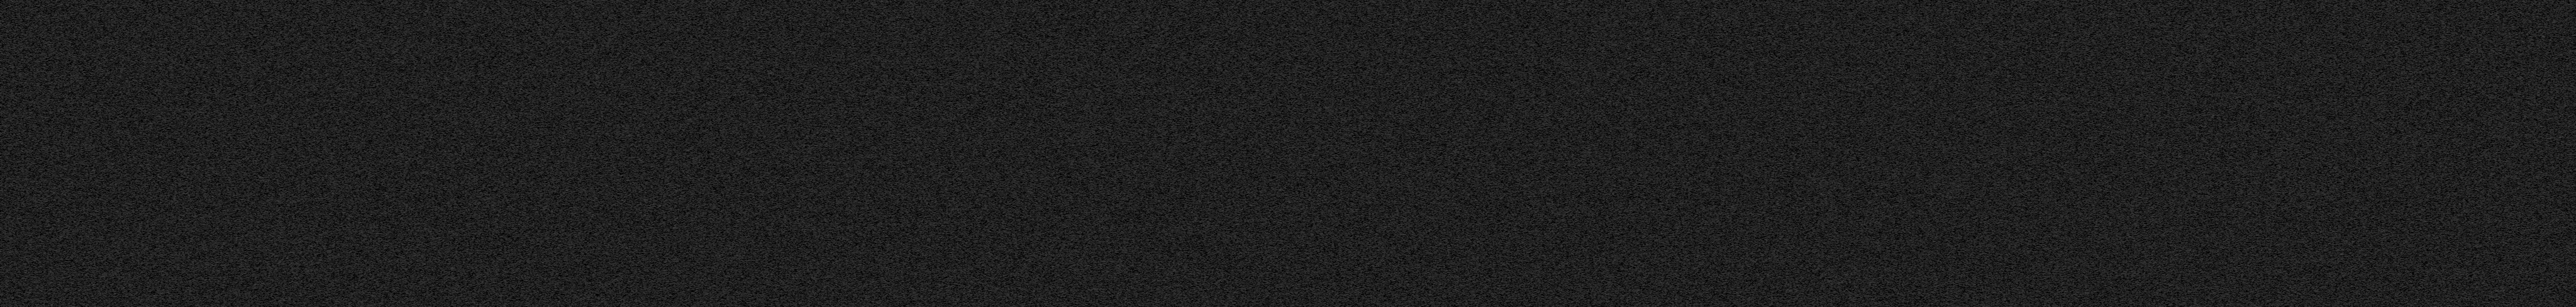wv_am: (1477, 0, 1480, 307), (1106, 0, 1107, 307)
wv_cw: (1051, 0, 1055, 307)
wv_lsb: (1855, 123, 1858, 227), (1855, 25, 1858, 121), (1855, 261, 1858, 296), (1855, 227, 1858, 254), (1855, 2, 1858, 16), (1855, 296, 1858, 307), (1855, 16, 1858, 25), (1855, 256, 1858, 261)
wv_usb: (550, 2, 554, 133), (1137, 2, 1140, 80), (550, 204, 554, 276), (1137, 105, 1140, 161), (1137, 190, 1140, 243), (550, 135, 554, 179), (550, 277, 554, 296), (1137, 163, 1140, 177), (1137, 287, 1140, 297), (1137, 177, 1140, 186), (1137, 85, 1140, 94), (550, 179, 554, 186), (1137, 281, 1140, 286), (1137, 245, 1140, 250), (1137, 186, 1140, 190), (550, 302, 554, 307), (550, 296, 554, 300), (550, 197, 554, 202), (550, 190, 554, 195), (550, 186, 554, 190), (1137, 251, 1140, 254), (1137, 100, 1140, 103), (1137, 94, 1140, 97), (1137, 82, 1140, 85), (1137, 256, 1138, 261), (1137, 299, 1140, 300)
wv_wbfm: (1222, 0, 1276, 307)
